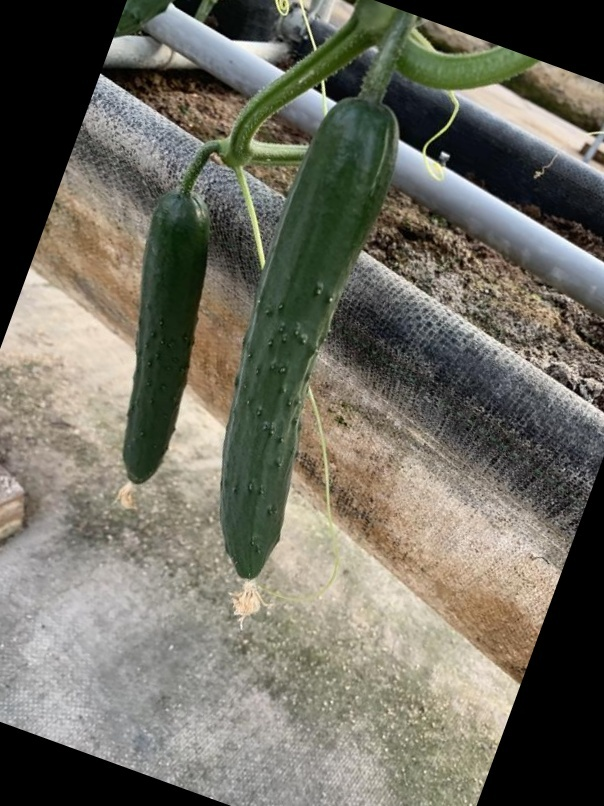mature: (211, 87, 396, 606), (114, 184, 214, 493)
